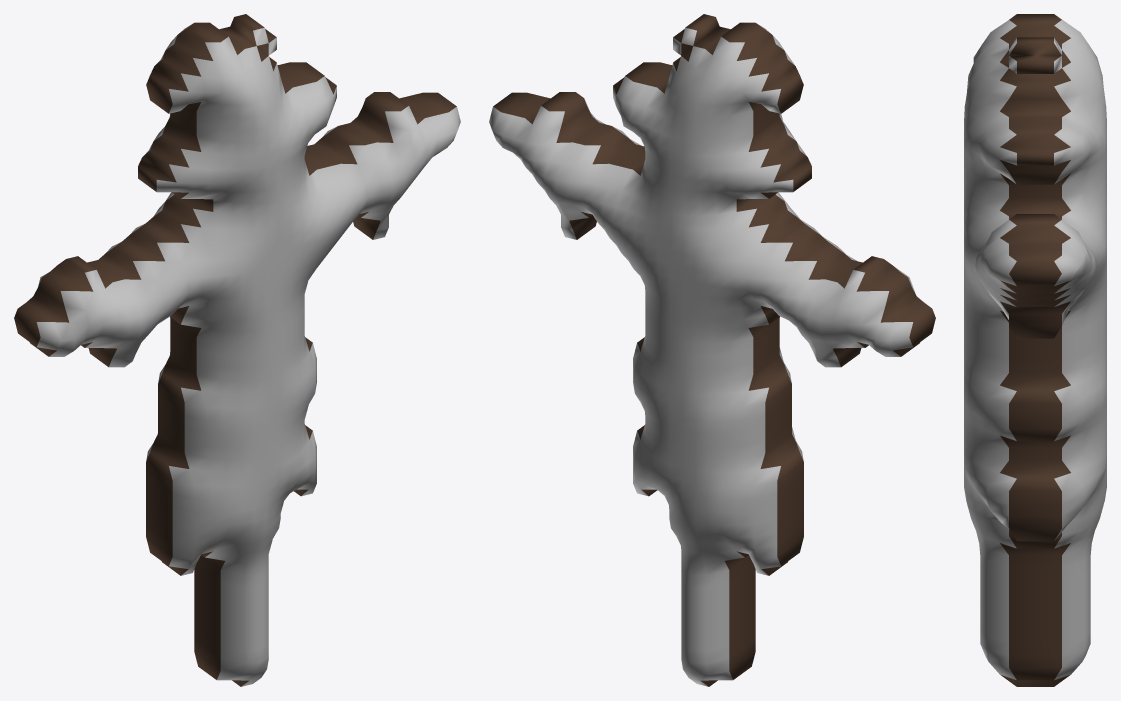
Rendered from scarecrow.glb.
3 views of the same model, side by side, from view 1: azimuth 30°, elevation 25°; view 2: azimuth 150°, elevation 25°; view 3: azimuth 270°, elevation 25° (orthographic).
Visible parts, largest first — view 1: scarecrow; view 2: scarecrow; view 3: scarecrow.
Part boxes in pixels (x1,y1,x2,y2): scarecrow: (14, 14, 460, 686); scarecrow: (489, 14, 935, 686); scarecrow: (964, 14, 1106, 686).
Size of the model in its own units: 0.9423 by 1.4 by 0.2788.
